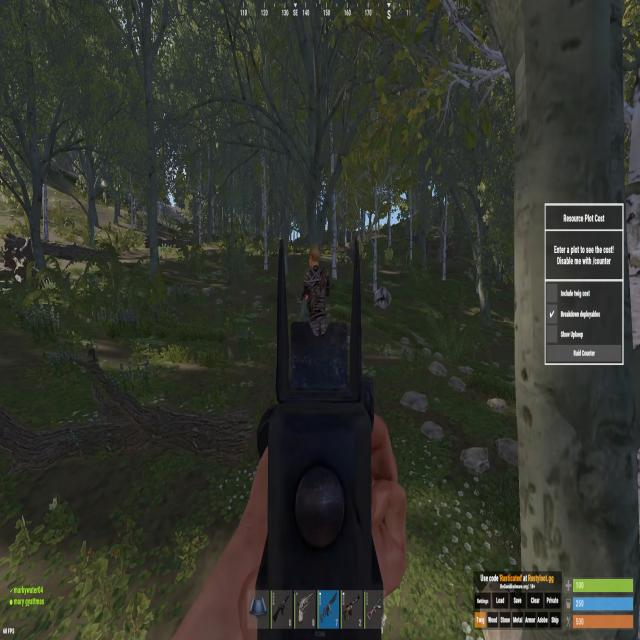Player: (299, 245, 330, 321)
